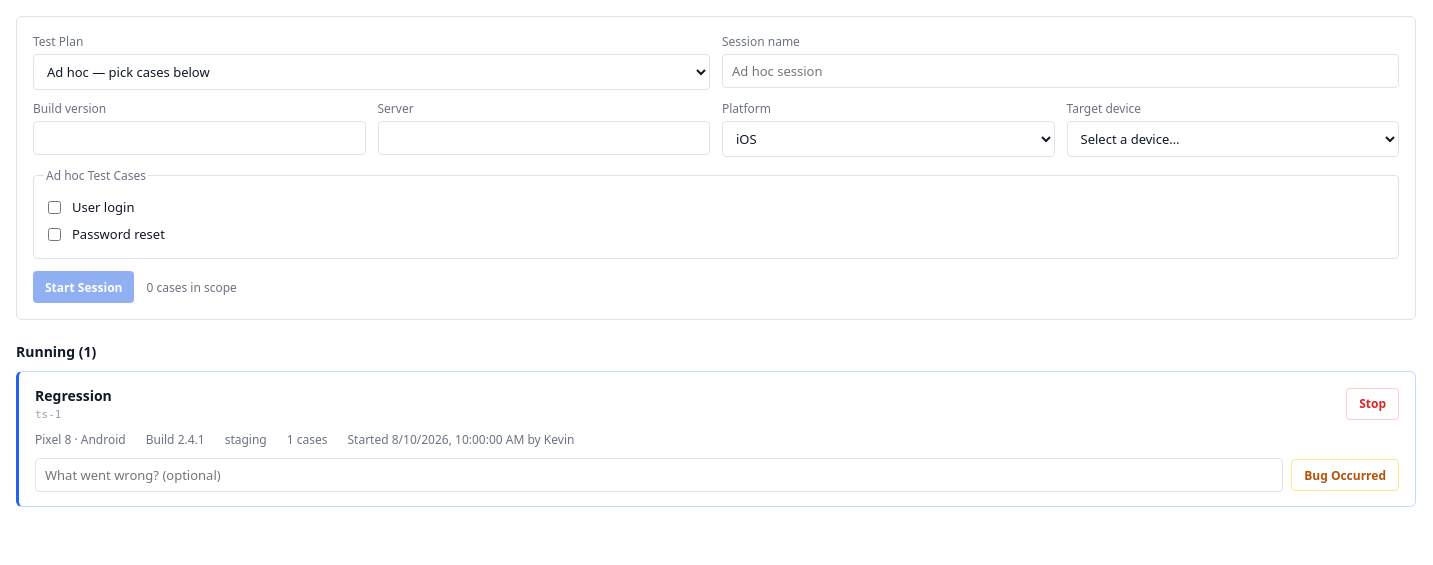
Test case: marking a bug mid-session records the marker and the session keeps running
Type "Checkout 500s" into the field named "Bug summary" at (659, 475), box [35,458,1283,492]
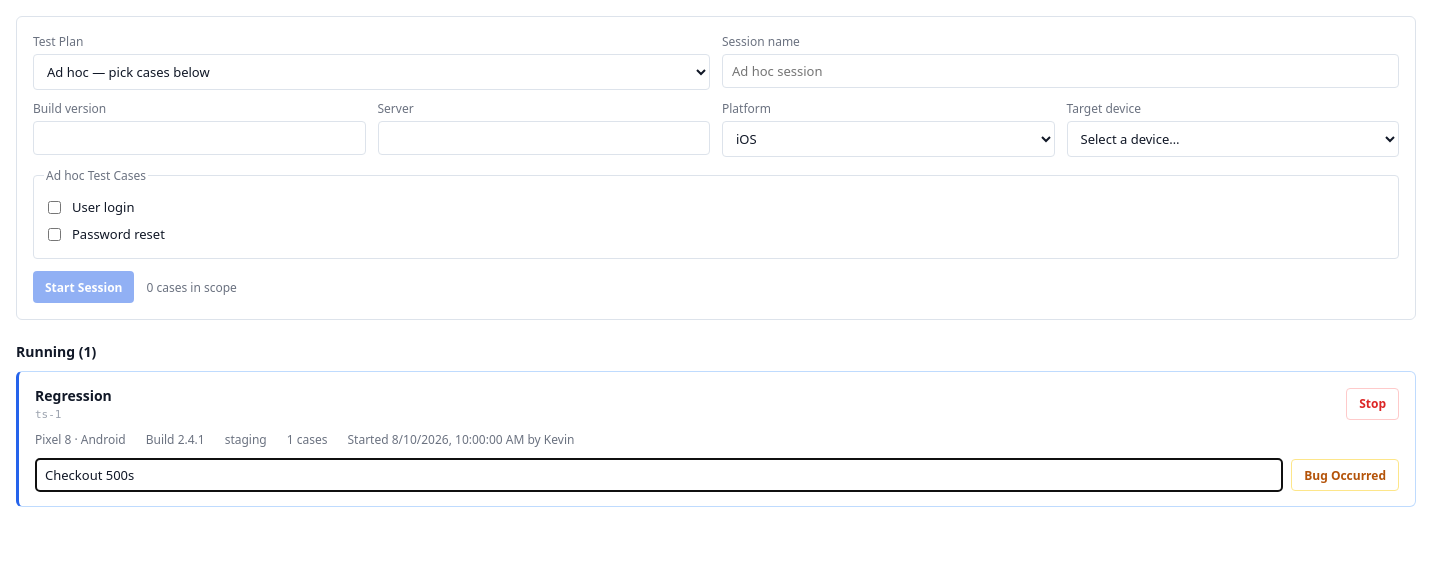
Click the button "Bug Occurred" at (1345, 475), box [1291,459,1399,491]
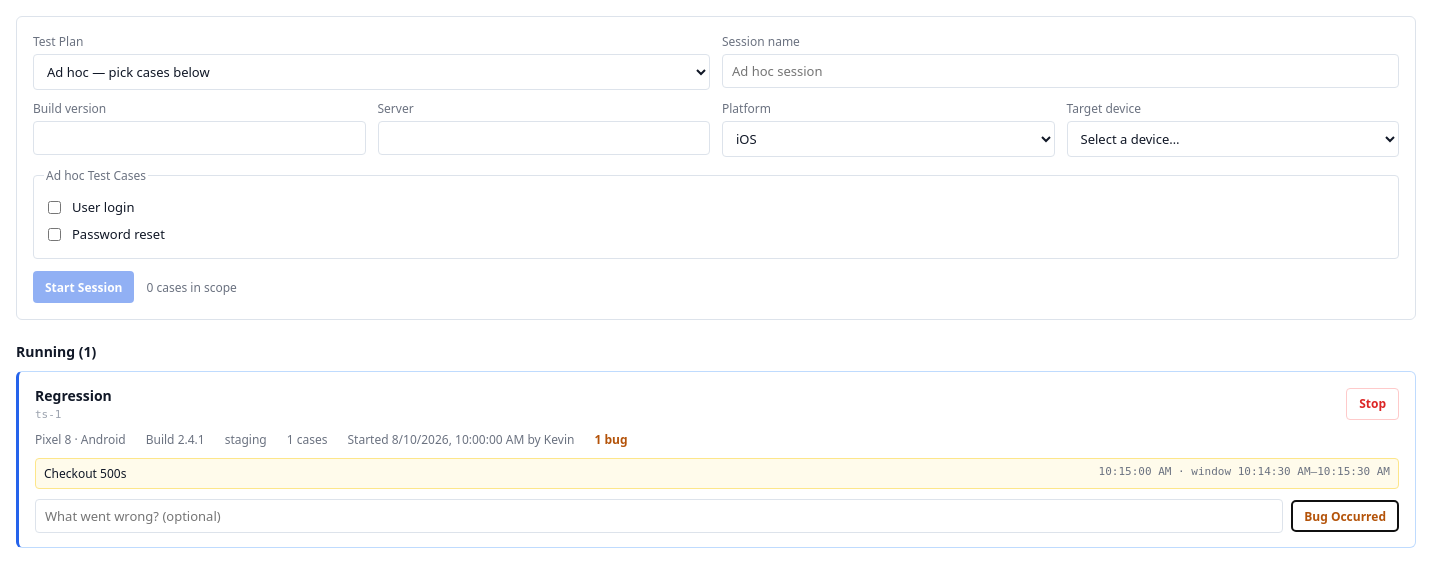
Now the text "Checkout 500s" is shown, box [44,465,126,482]
Now the text "10:15:00 AM · window 10:14:30 AM–10:15:30 AM" is shown, box [1099,465,1390,482]
Now the text "1 bug" is shown, box [594,431,628,448]
